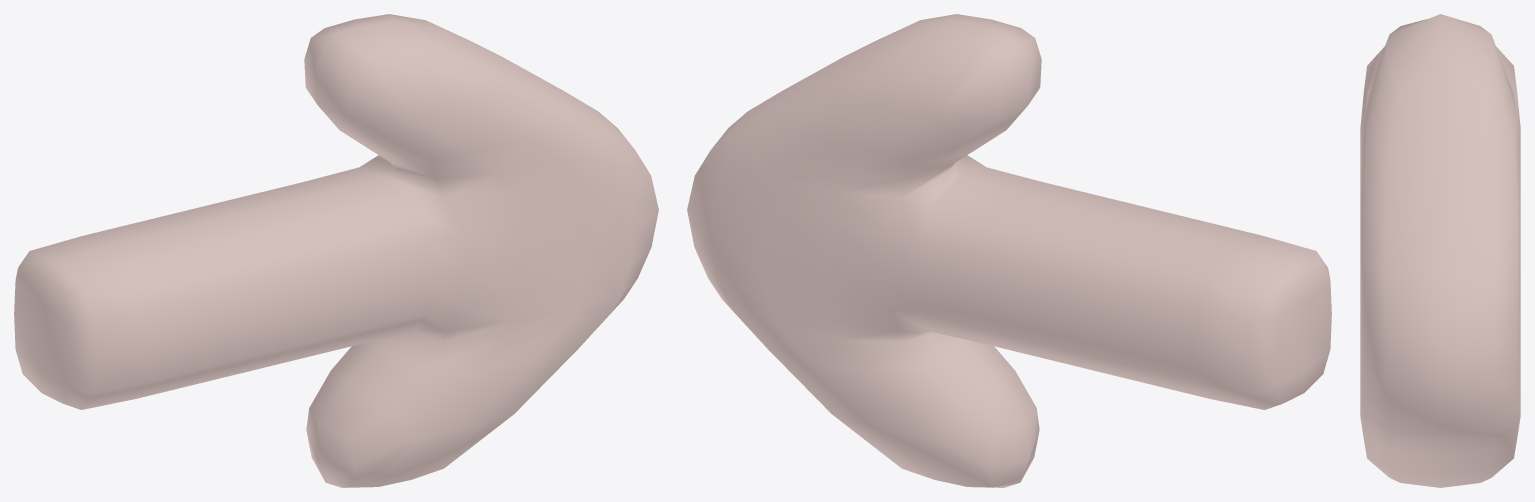
File: arrow_white.glb
The picture shows the model from 3 angles, left to right: view 1: azimuth 30°, elevation 25°; view 2: azimuth 150°, elevation 25°; view 3: azimuth 270°, elevation 25°; orthographic projection.
Parts seen in each view (by area): view 1: Cube.004; view 2: Cube.004; view 3: Cube.004.
Boxes of the visible parts, left/top/right/bottom form: Cube.004: left=14, top=14, right=658, bottom=487; Cube.004: left=687, top=14, right=1331, bottom=487; Cube.004: left=1360, top=14, right=1520, bottom=487.
Size of the model in its own units: 4.39 by 3.17 by 1.02.
Materials: 1 (1 with a texture image).
